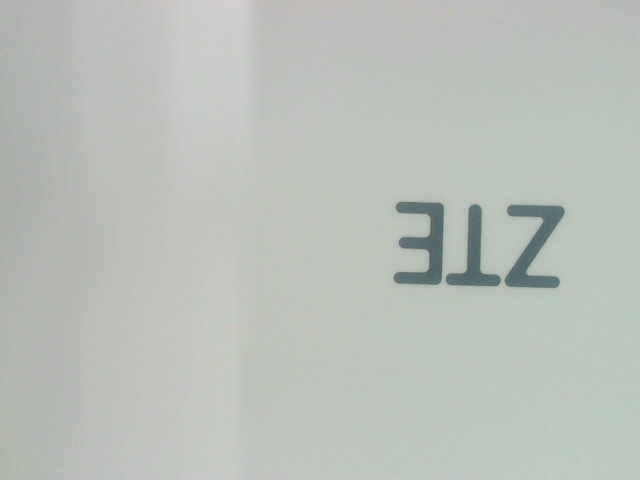AN_ZTELarge: (383, 190, 578, 302)
